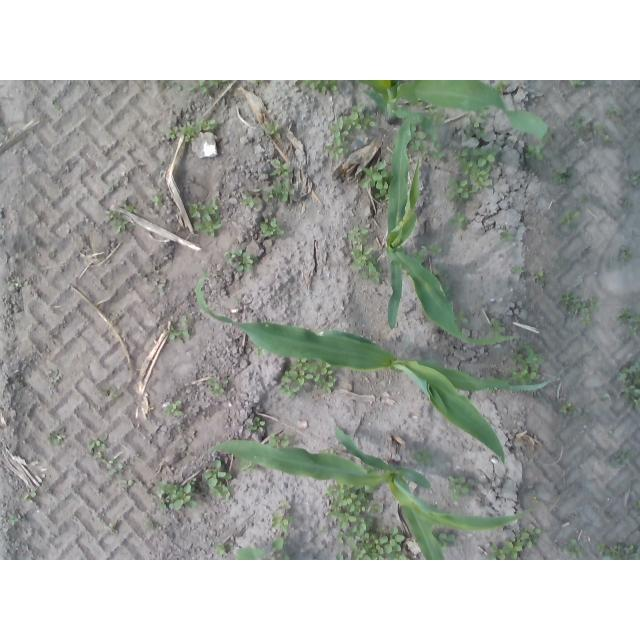Maize: (196, 273, 561, 466), (207, 426, 533, 560), (387, 120, 522, 346), (359, 80, 549, 146)
Weeds: (322, 484, 406, 560), (323, 102, 377, 166), (239, 160, 296, 209), (446, 148, 498, 201), (279, 357, 341, 399), (347, 225, 382, 287), (414, 110, 448, 163), (490, 524, 540, 560), (562, 294, 605, 331), (155, 476, 198, 513), (510, 345, 546, 388), (185, 199, 224, 237), (202, 459, 234, 501), (616, 359, 640, 412), (361, 159, 391, 201), (234, 538, 291, 560), (168, 118, 218, 143), (569, 117, 614, 144), (105, 200, 135, 233), (612, 306, 640, 340), (225, 249, 259, 275), (270, 501, 294, 531), (600, 544, 639, 561), (467, 111, 489, 141), (169, 316, 195, 341), (187, 80, 225, 97), (298, 81, 337, 96), (258, 216, 283, 239), (448, 476, 472, 499), (206, 378, 231, 399), (409, 447, 435, 466), (89, 436, 111, 458), (522, 143, 544, 163), (417, 244, 441, 262), (162, 401, 187, 418), (608, 449, 629, 468), (178, 425, 198, 444), (247, 417, 267, 436), (449, 210, 467, 231), (567, 539, 586, 558), (49, 427, 67, 446), (489, 318, 507, 337), (552, 169, 570, 188), (560, 211, 581, 227), (441, 533, 460, 550), (455, 307, 472, 326), (268, 435, 290, 449), (150, 279, 166, 298), (238, 460, 259, 474), (46, 368, 63, 385), (158, 80, 182, 92), (605, 106, 625, 120), (533, 268, 547, 288), (511, 265, 530, 279), (144, 510, 157, 530), (499, 231, 517, 245), (560, 402, 579, 415), (266, 124, 281, 140), (491, 80, 509, 93), (9, 277, 24, 292), (102, 384, 118, 397), (8, 509, 21, 525), (620, 246, 633, 262), (627, 172, 640, 188), (25, 492, 39, 505), (254, 345, 267, 359), (106, 523, 119, 534), (579, 193, 590, 206), (138, 273, 151, 284), (217, 542, 228, 555), (55, 103, 67, 114), (151, 195, 163, 206), (109, 182, 120, 194), (530, 494, 540, 506), (624, 201, 637, 210), (569, 81, 584, 88), (151, 264, 160, 275), (180, 444, 189, 452), (634, 499, 640, 511), (246, 81, 266, 84)
